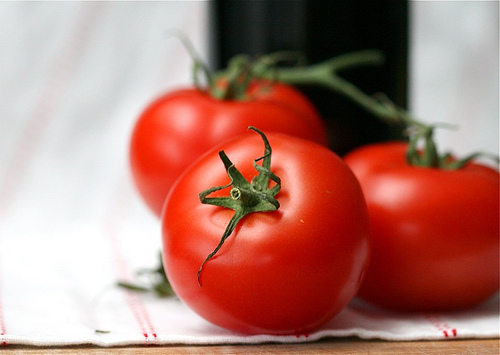tomato: (164, 140, 372, 330), (136, 62, 326, 210), (348, 132, 500, 316)
